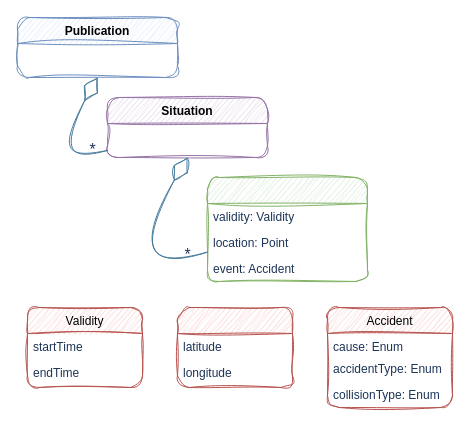
Some shapes in this 470 by 425 pixel diagram are drawn without their labels. Each missing label, with the box of its shape:
Point: (176, 306, 292, 388)
SituationRecord: (206, 176, 368, 282)
